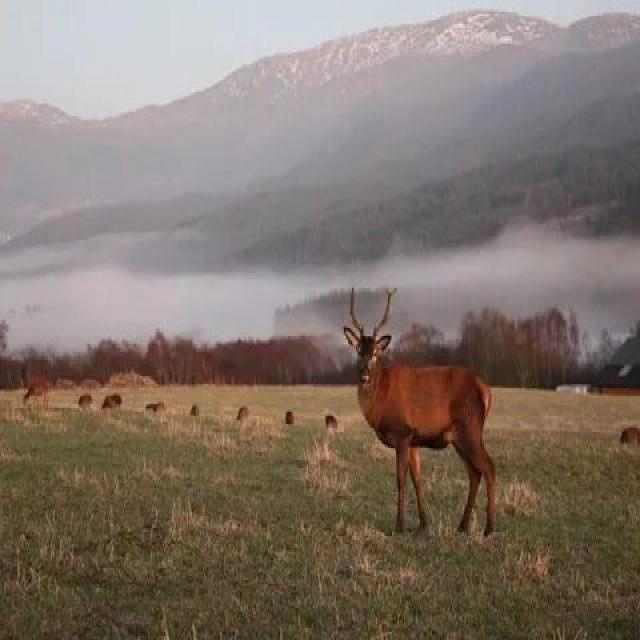deer: (333, 267, 540, 560)
